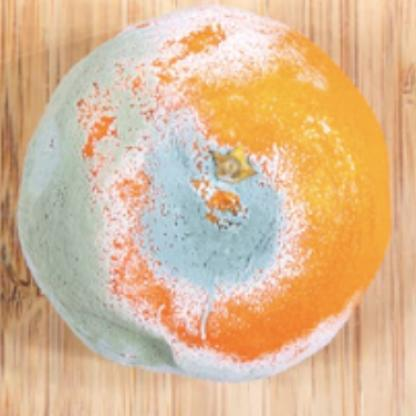rotten: (19, 8, 396, 383)
